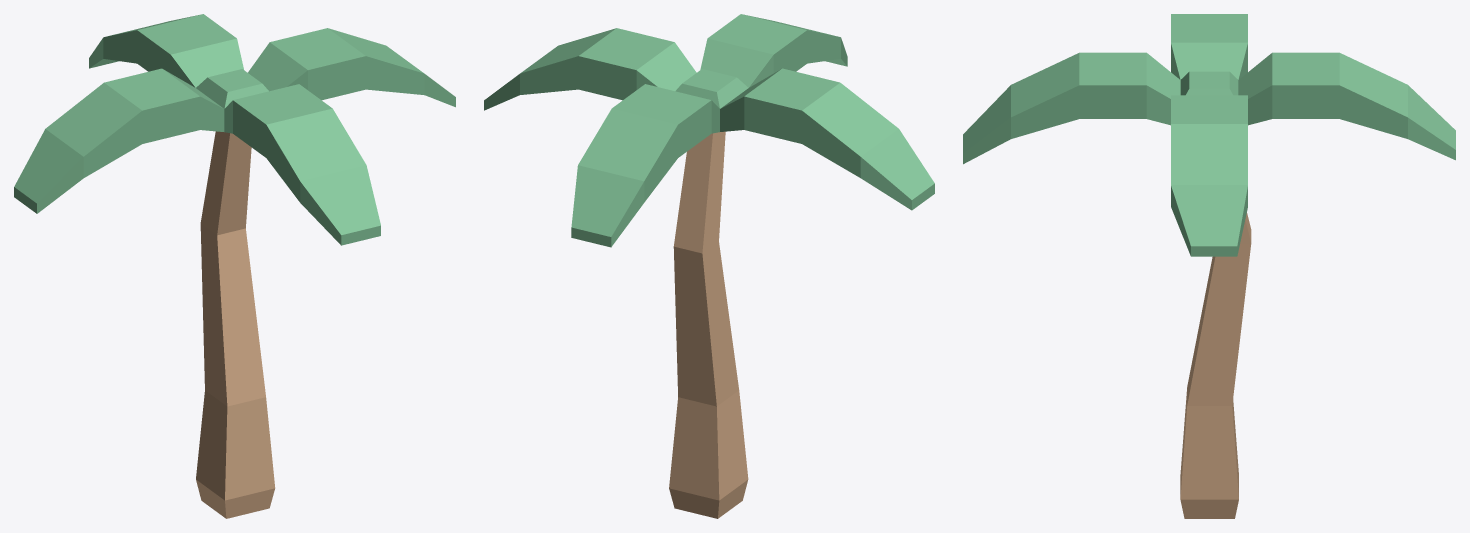
Rendered from palm_long.glb.
3 renders of one model, left to right at view 1: azimuth 30°, elevation 25°; view 2: azimuth 150°, elevation 25°; view 3: azimuth 270°, elevation 25°, orthographic.
Visible parts, largest first — view 1: Group 30, Group 28; view 2: Group 30, Group 28; view 3: Group 30, Group 28.
Boxes of the visible parts, bbox=[...] form: Group 30: bbox=[14, 14, 455, 245]; Group 28: bbox=[196, 131, 275, 518]; Group 30: bbox=[484, 14, 934, 247]; Group 28: bbox=[669, 131, 748, 518]; Group 30: bbox=[963, 14, 1455, 256]; Group 28: bbox=[1180, 213, 1251, 518].
Bounding box in the file's own units: 1.38 × 1.35 × 1.38.
